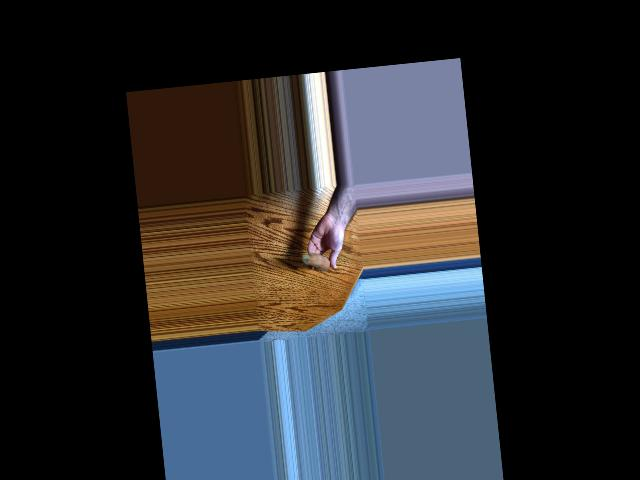sweet_potato: (301, 248, 332, 270)
